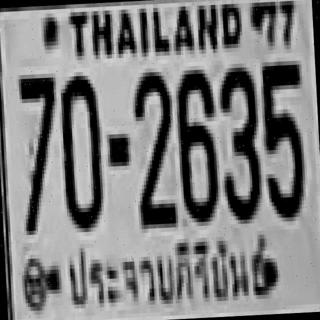N00: (58, 72, 102, 229)
N02: (131, 68, 176, 225)
N03: (216, 63, 261, 220)
N05: (260, 59, 305, 216)
N06: (174, 65, 217, 219)
N07: (16, 74, 61, 231), (16, 73, 59, 191)
